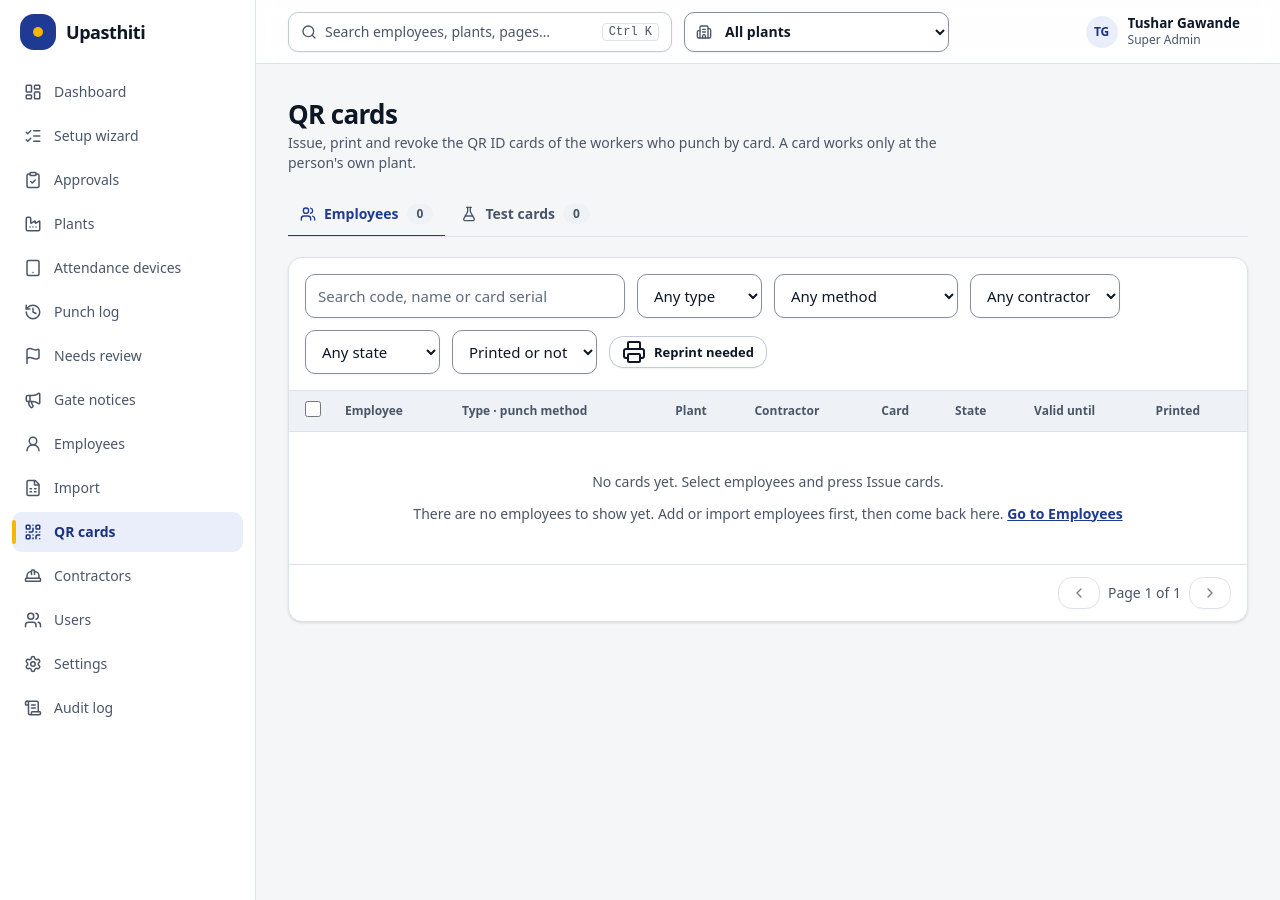
Test case: empty, no match and error › says when no one matches the filters
Expected: the text "No cards yet. Select employees and press Issue cards." is shown, [592,472,944,491]
Select "Expired" in the dropdown named "Card state" at (372, 352), box [305,330,440,374]
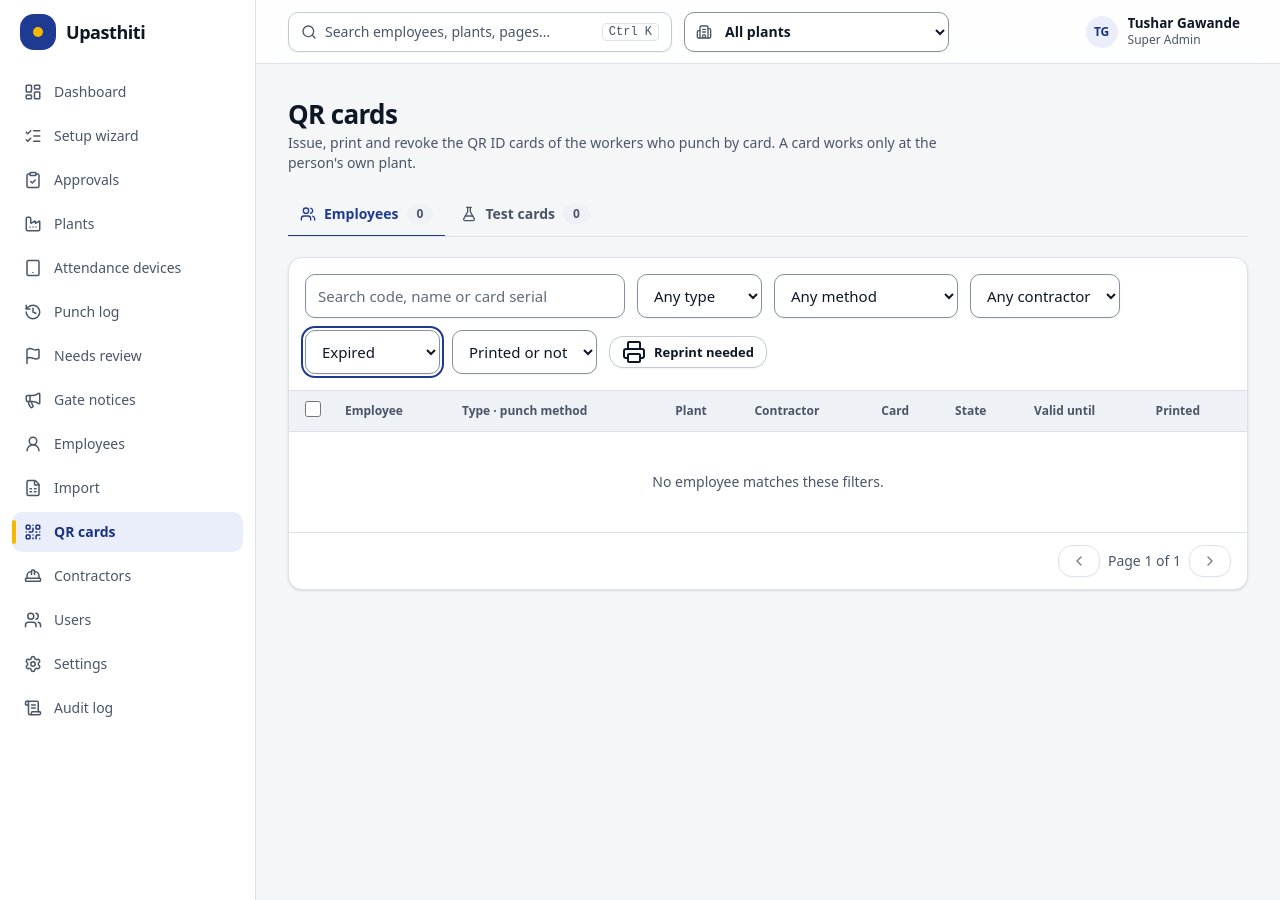
Now the text "No employee matches these filters." is shown, box [652,472,884,491]
